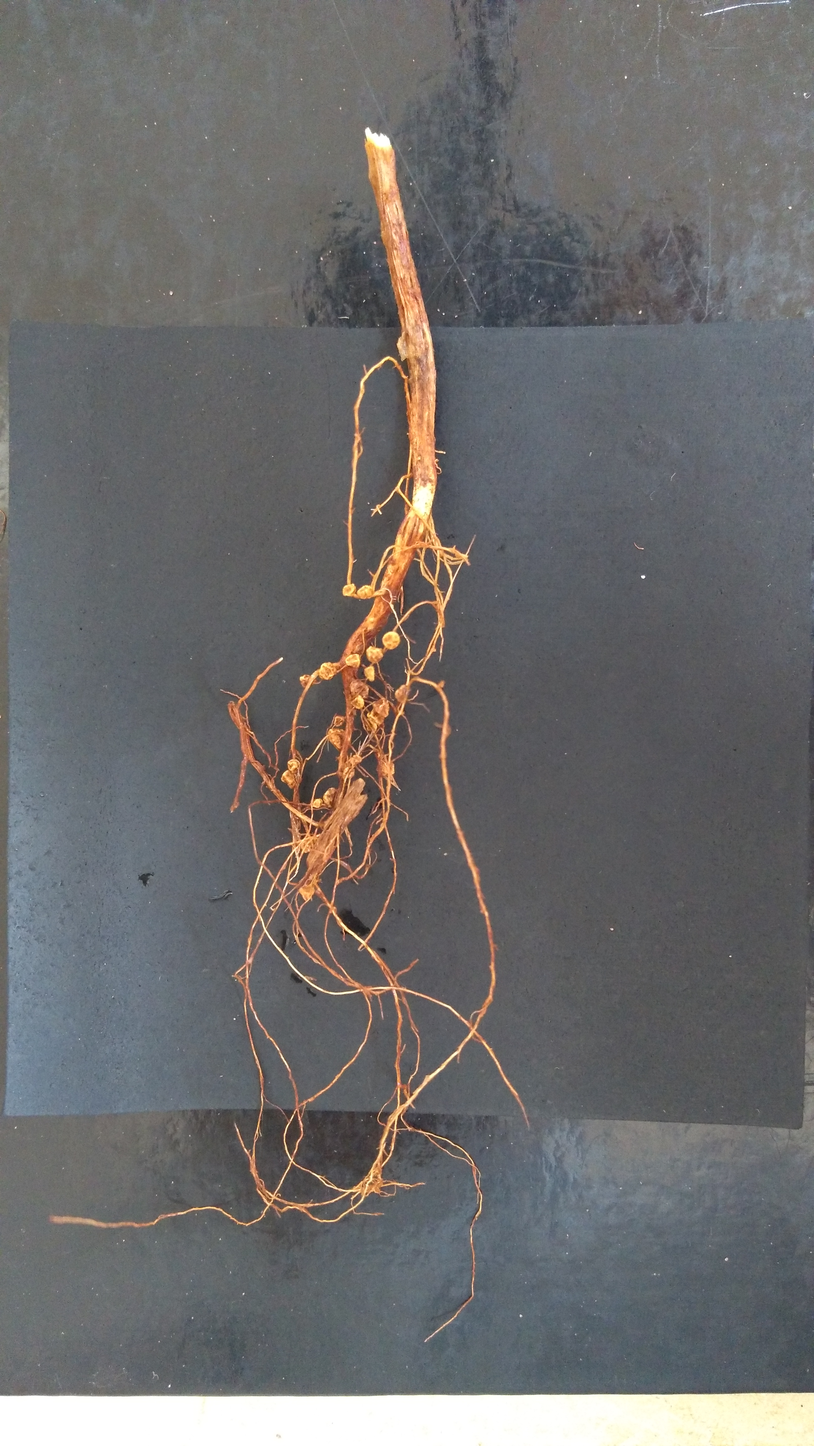nodule: (326, 727, 346, 752), (381, 629, 402, 651), (371, 696, 391, 718), (349, 679, 369, 699), (318, 662, 338, 682), (393, 682, 409, 706), (279, 769, 297, 790), (365, 645, 384, 664), (297, 883, 316, 902), (322, 786, 337, 809), (377, 760, 396, 778), (356, 584, 376, 600), (299, 673, 317, 689), (286, 758, 302, 775), (298, 838, 315, 854), (344, 653, 361, 668), (350, 694, 365, 711), (341, 583, 357, 598), (363, 666, 376, 683), (342, 765, 356, 779), (332, 715, 346, 728), (348, 754, 363, 766), (311, 797, 324, 810), (437, 679, 446, 689)
